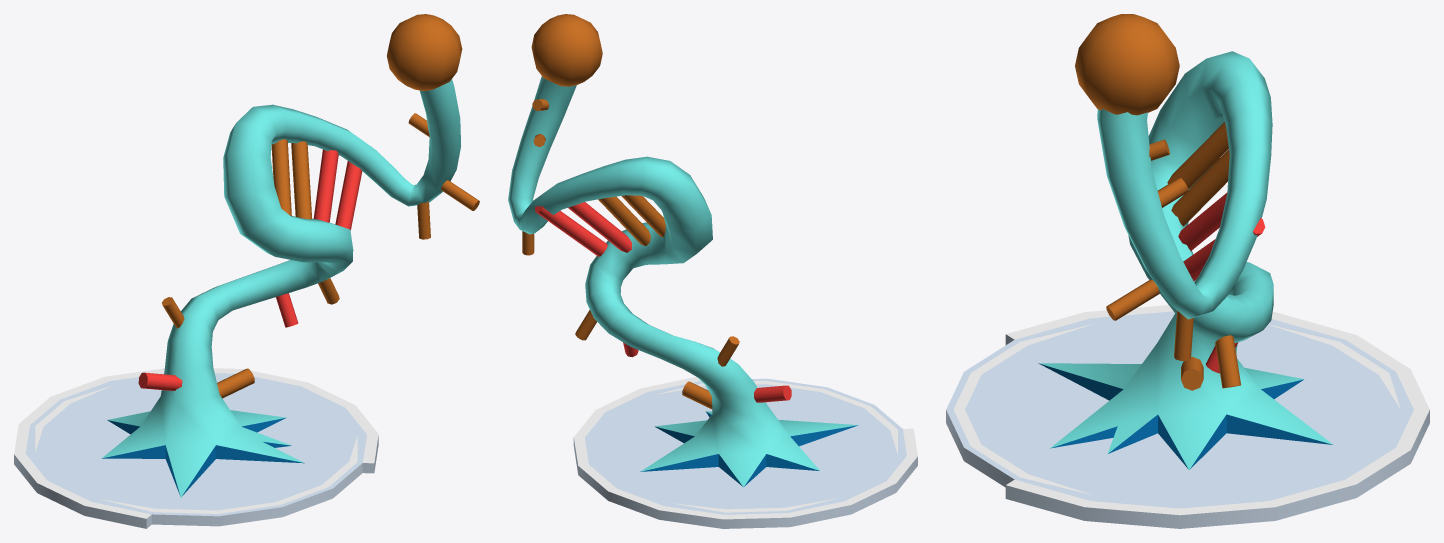
Rendered from market3.fbx.
The picture shows the model from 3 angles, left to right: view 1: azimuth 30°, elevation 25°; view 2: azimuth 150°, elevation 25°; view 3: azimuth 270°, elevation 25°; orthographic projection. The views are drawn at different scales.
Parts seen in each view (by area): view 1: market3; view 2: market3; view 3: market3.
Part boxes in pixels (box(x1,y1,x2,y2)): market3: box(14, 14, 479, 528); market3: box(508, 14, 917, 528); market3: box(946, 14, 1429, 528).
Bounding box in the file's own units: 126 × 116 × 93.23.
